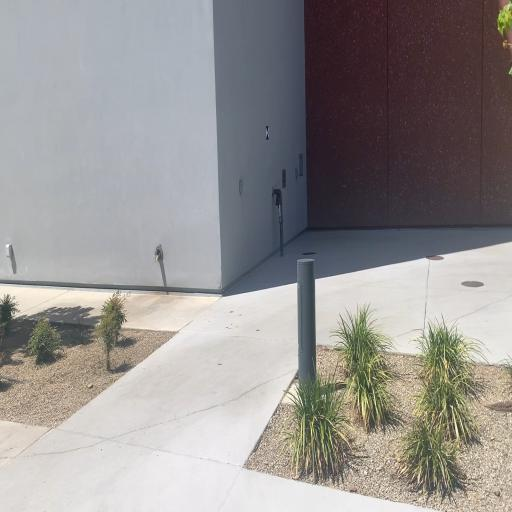target3: (266, 125, 269, 140)
